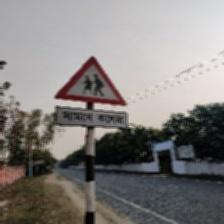College-in-front: (51, 50, 127, 130)
